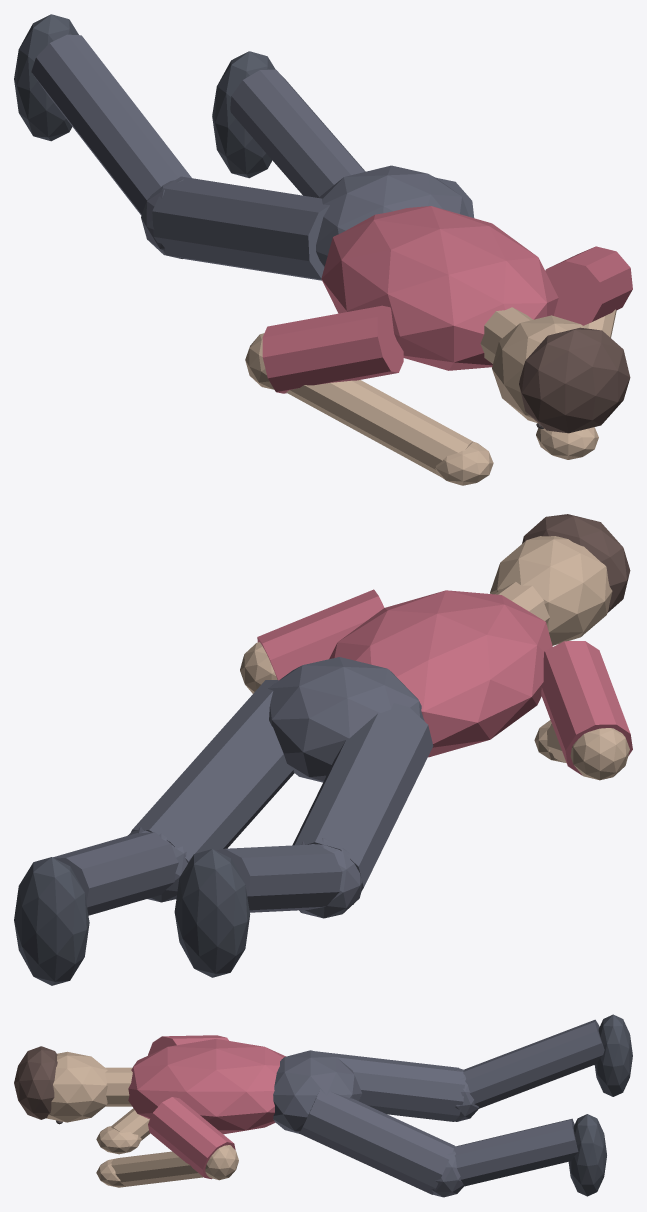
The picture shows the model from 3 angles, top to bottom: view 1: azimuth 30°, elevation 25°; view 2: azimuth 150°, elevation 25°; view 3: azimuth 270°, elevation 25°; orthographic projection. The views are drawn at different scales.
Visible parts, largest first — view 1: world; view 2: world; view 3: world.
Boxes of the visible parts, x1,y1,x2,y2 form: world: (14,14,632,485); world: (14,514,632,985); world: (14,1014,632,1197).
Size of the model in its own units: 0.93 by 0.4638 by 2.04.
